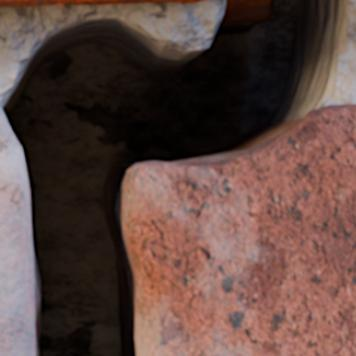brick: (0, 0, 202, 6)
broken_brick: (125, 104, 355, 355), (0, 111, 31, 355)
crack: (0, 0, 354, 355)
